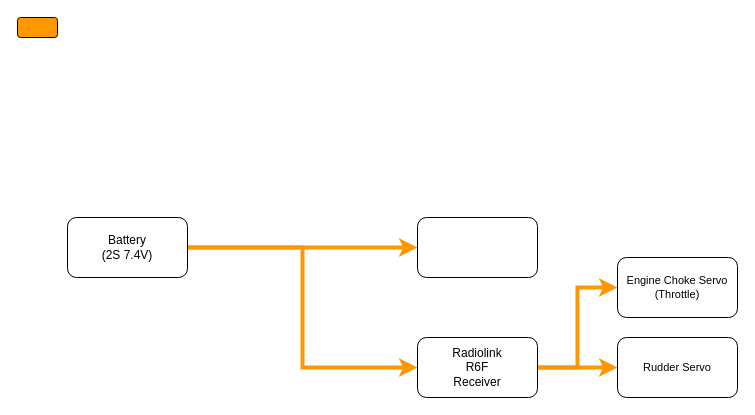
Some shapes in this 755 by 415 pixel diagram are drawn without their labels. The shapes that lost their labels are listed below. From the top down, each one's box as (x1, y1, x2, y2) in pixels, then its label:
(16, 16, 58, 38): 7.4V
(416, 216, 538, 278): Engine Ignition
